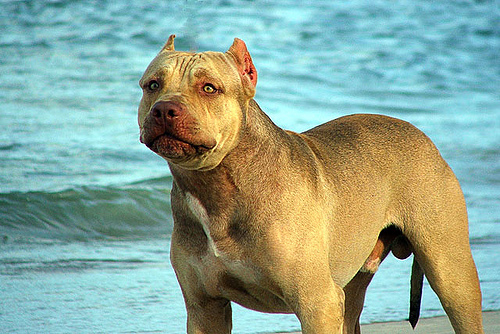am_pit_bull_terrier: (137, 34, 482, 334)
